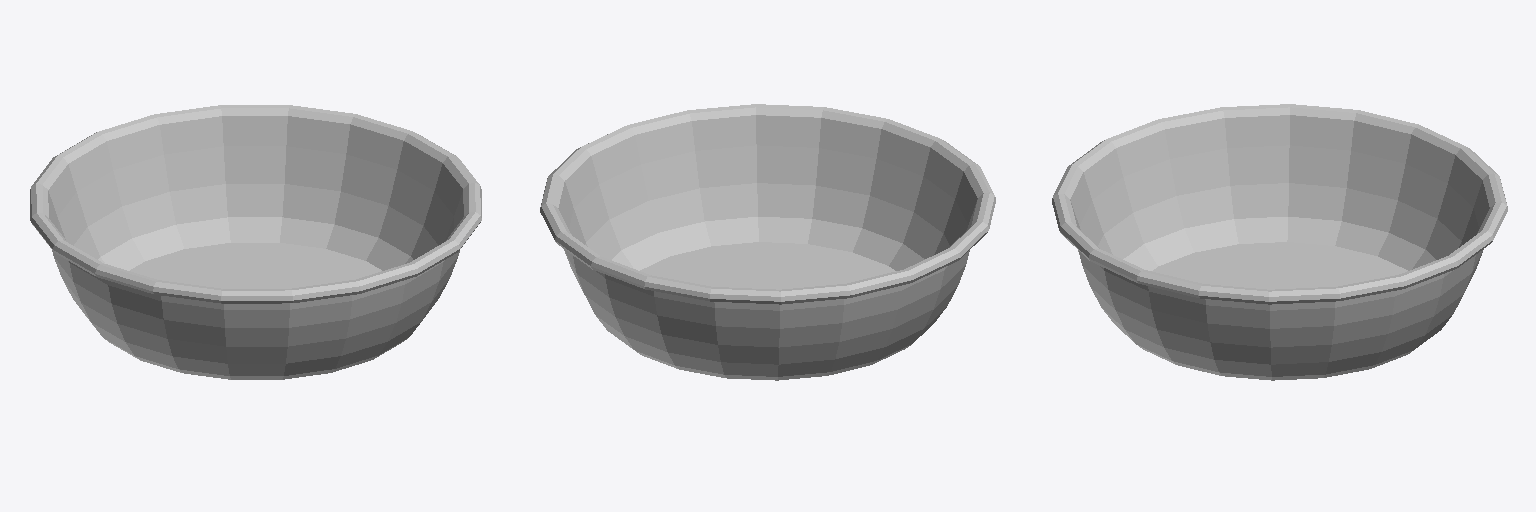
File: Bowl.obj
3 renders of one model, left to right at view 1: azimuth 30°, elevation 25°; view 2: azimuth 150°, elevation 25°; view 3: azimuth 270°, elevation 25°, orthographic.
Parts seen in each view (by area): view 1: Bowl; view 2: Bowl; view 3: Bowl.
Part boxes in pixels (left/top/right/bottom): Bowl: left=30, top=105, right=481, bottom=379; Bowl: left=540, top=104, right=995, bottom=380; Bowl: left=1052, top=104, right=1507, bottom=380.
Bounding box in the file's own units: 2.59 × 0.7273 × 2.59.